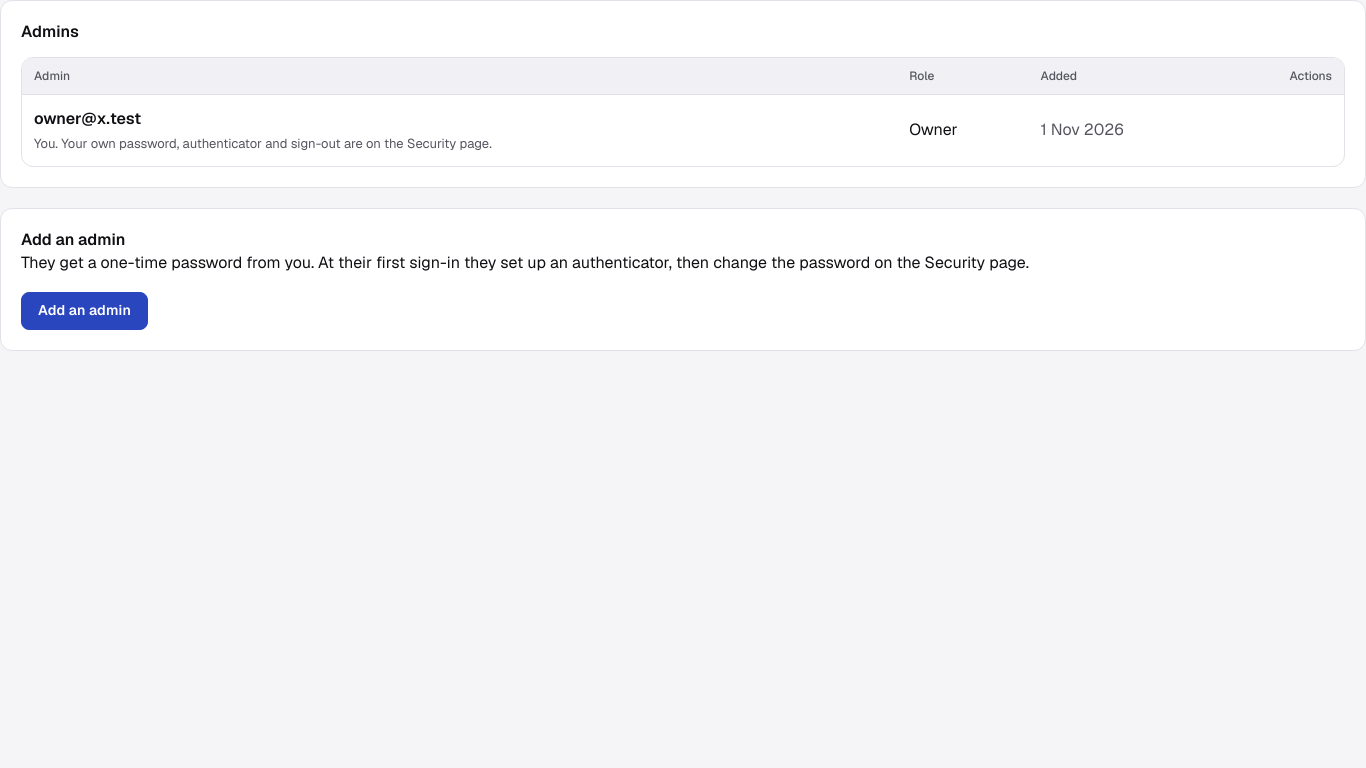
Scenario: AdminsPanel › adds an admin and shows the one-time password
This screenshot has width=1366, height=768.
Click the button "Add an admin" at (85, 311), box x1=21 y1=292 x2=148 y2=330
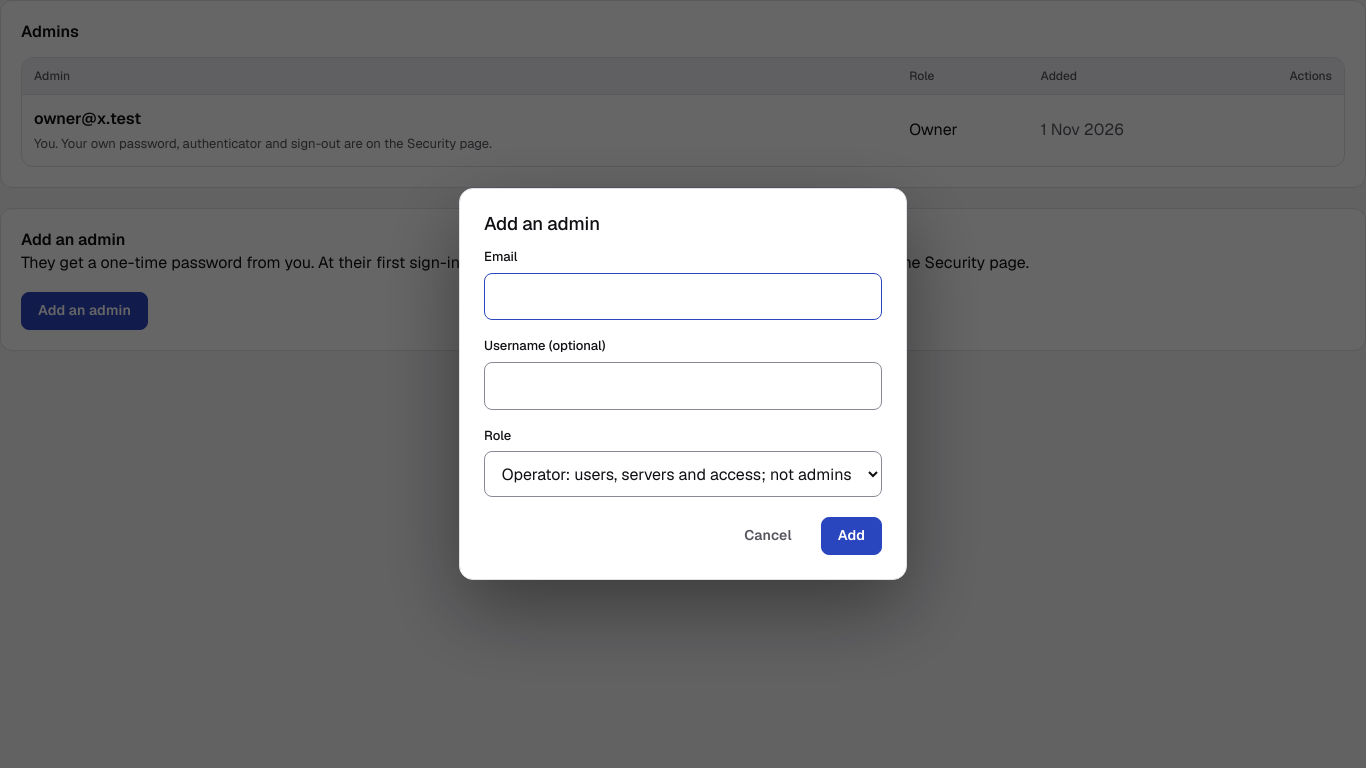
Type "new@x.test" into the field labelled "Email" at (683, 296), box x1=484 y1=273 x2=882 y2=320
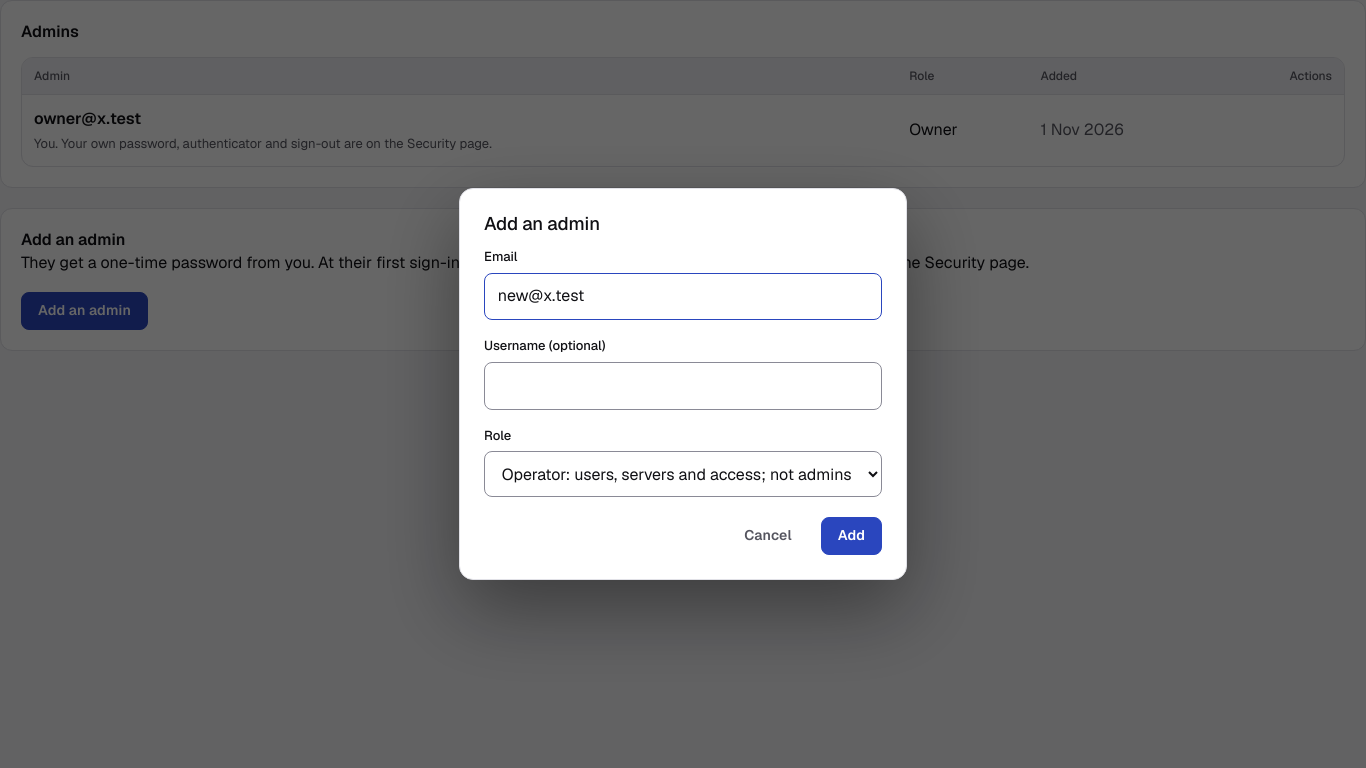
Select "Auditor: reads everything, changes nothing" in the dropdown labelled "Role" at (683, 474), box x1=484 y1=451 x2=882 y2=497
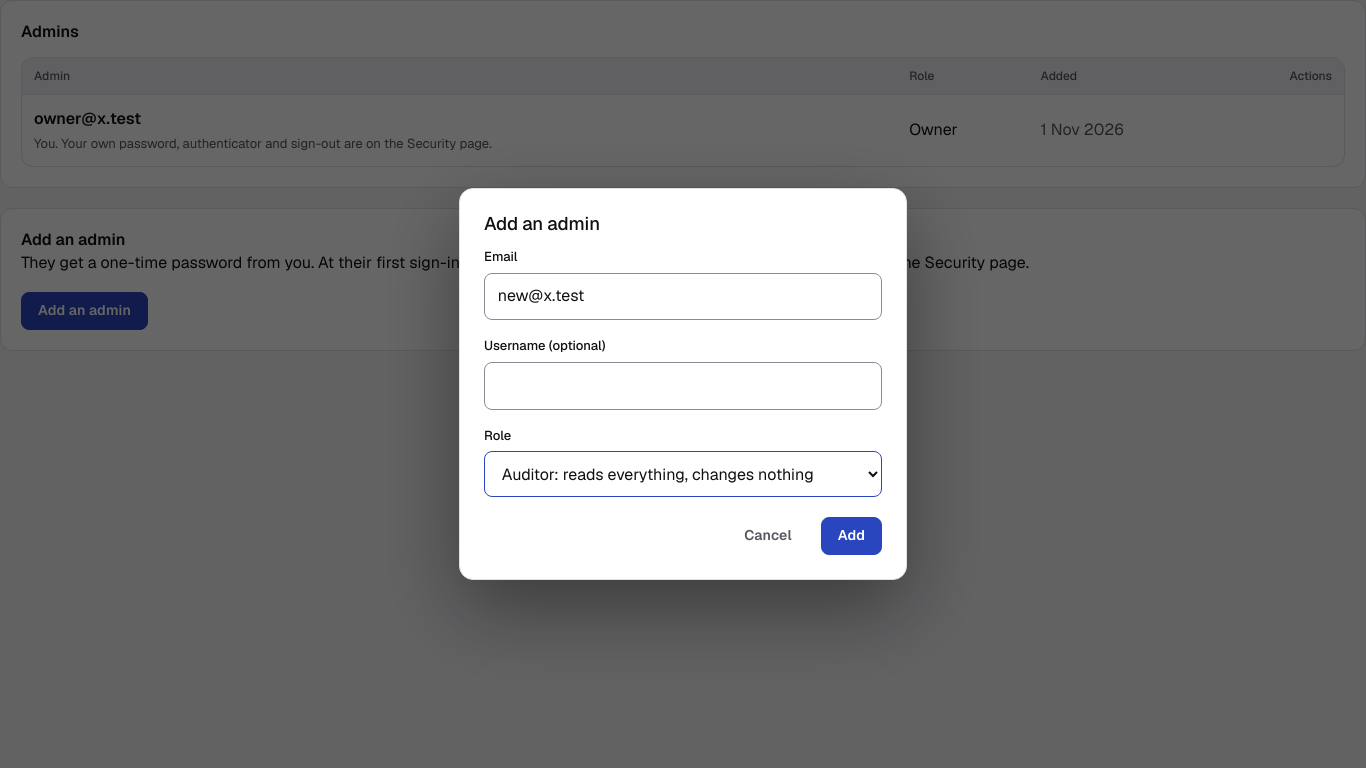
Click the button "Add" at (851, 536), box x1=821 y1=517 x2=882 y2=555
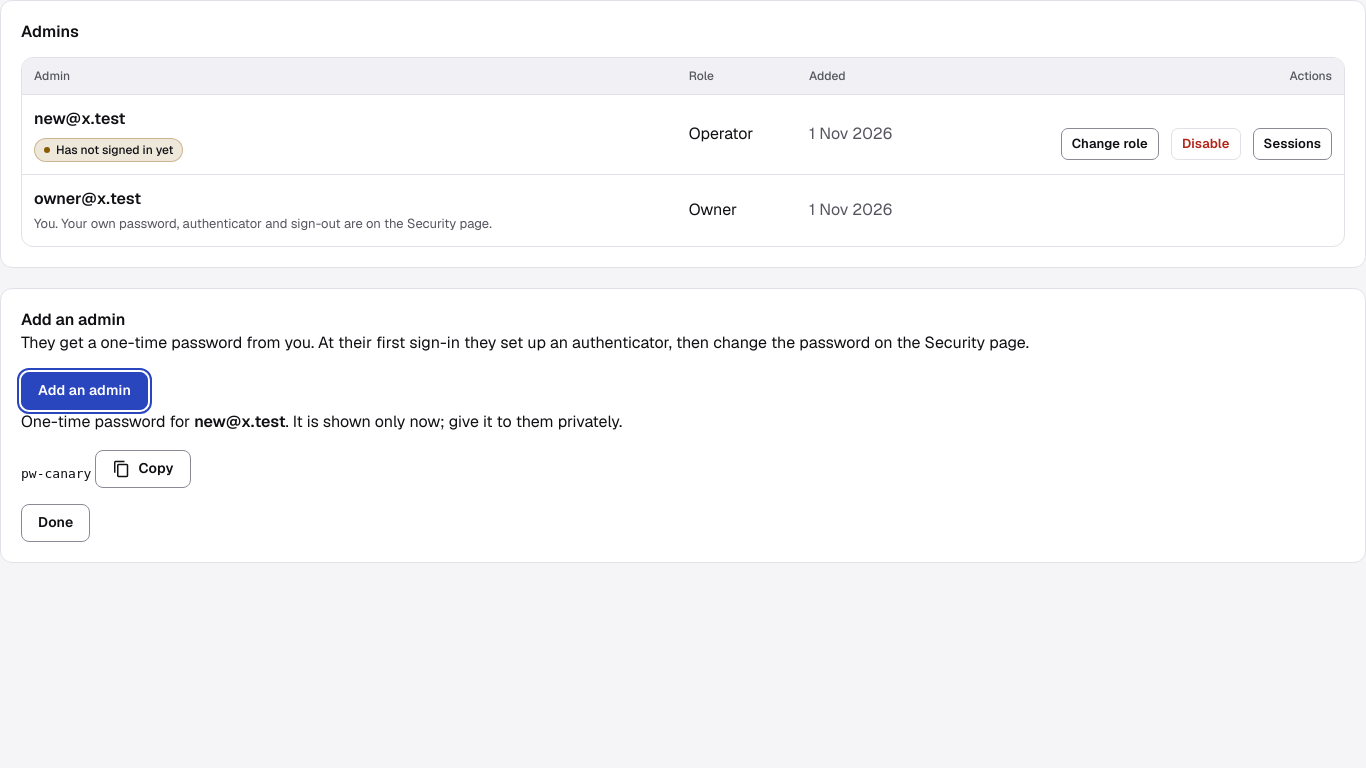
Expected: the text "pw-canary" is shown, x1=21 y1=466 x2=92 y2=481
Expected: the text "new@x.test" next to "Operator" is shown, x1=34 y1=108 x2=125 y2=129
Click the button "Done" at (56, 523), box x1=21 y1=504 x2=90 y2=542
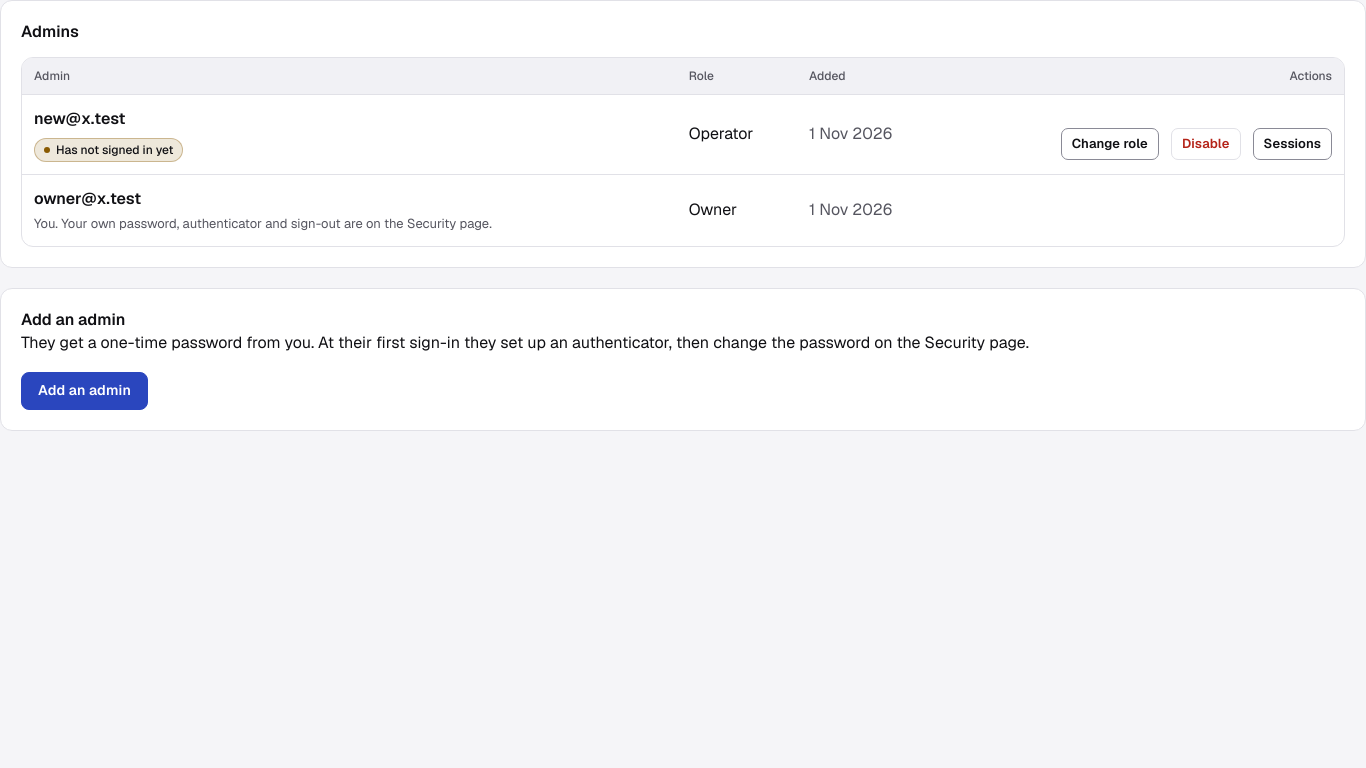
Expected: the text "pw-canary" is gone
